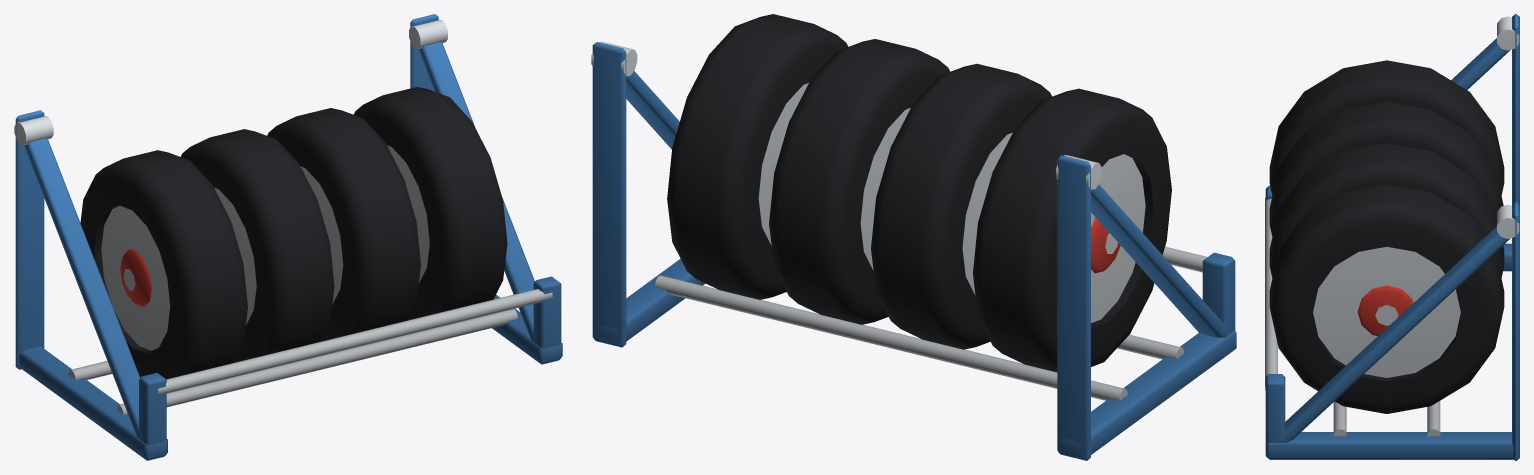
File: TireRack_Wall_01.glb
3 views of the same model, side by side, from view 1: azimuth 30°, elevation 25°; view 2: azimuth 150°, elevation 25°; view 3: azimuth 270°, elevation 25° (orthographic). The views are drawn at different scales.
Visible parts, largest first — view 1: SM_TireRack_Wall_01; view 2: SM_TireRack_Wall_01; view 3: SM_TireRack_Wall_01.
Boxes of the visible parts, x1,y1,x2,y2 form: SM_TireRack_Wall_01: (14, 14, 562, 460); SM_TireRack_Wall_01: (591, 14, 1236, 460); SM_TireRack_Wall_01: (1265, 14, 1519, 460).
Bounding box in the file's own units: 1.22 × 0.7 × 0.6516.
Materials: 1 (1 with a texture image).
